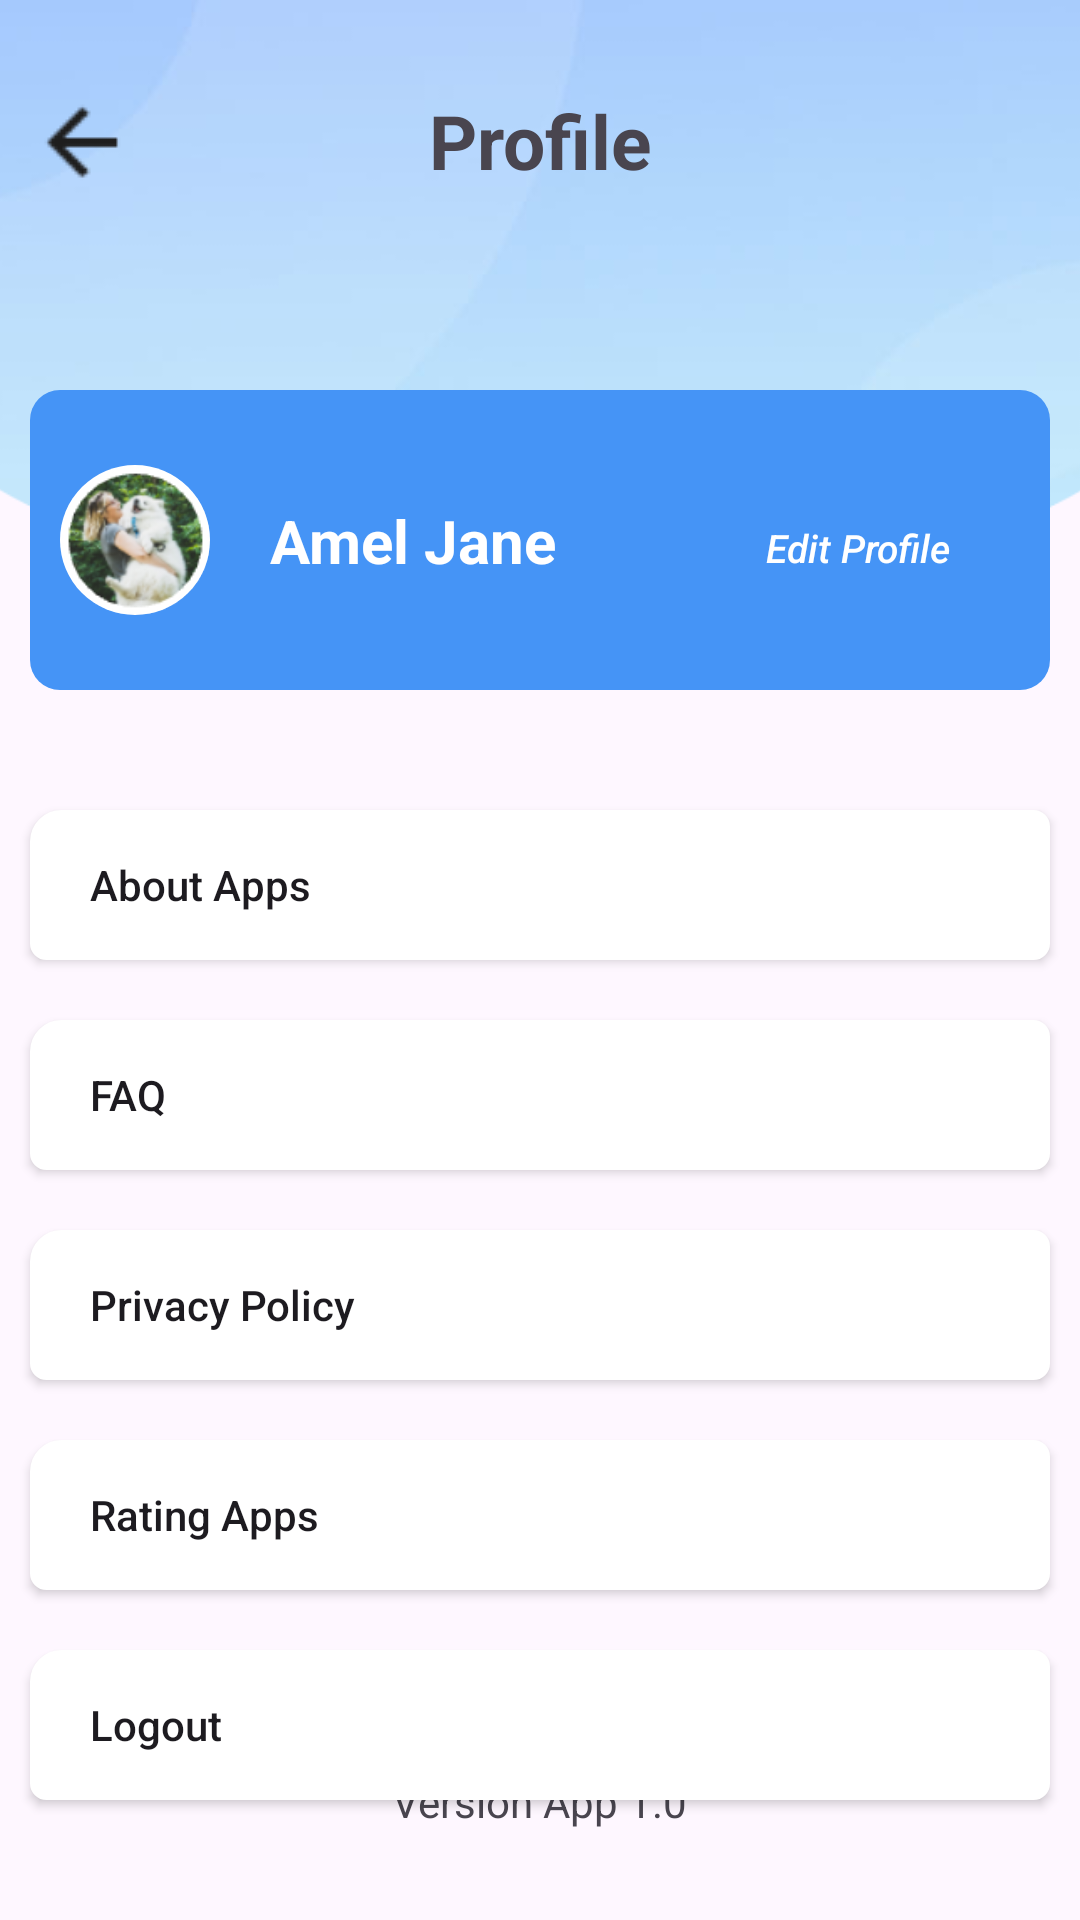

Icons on this 1080 × 1920 Android screen, each with the point to tap as (x,y):
back: (82,142)
